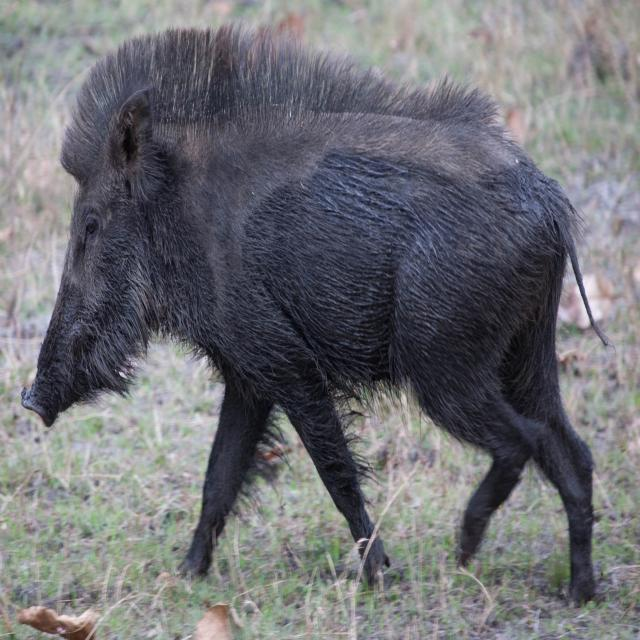Boar: (28, 25, 597, 598)
